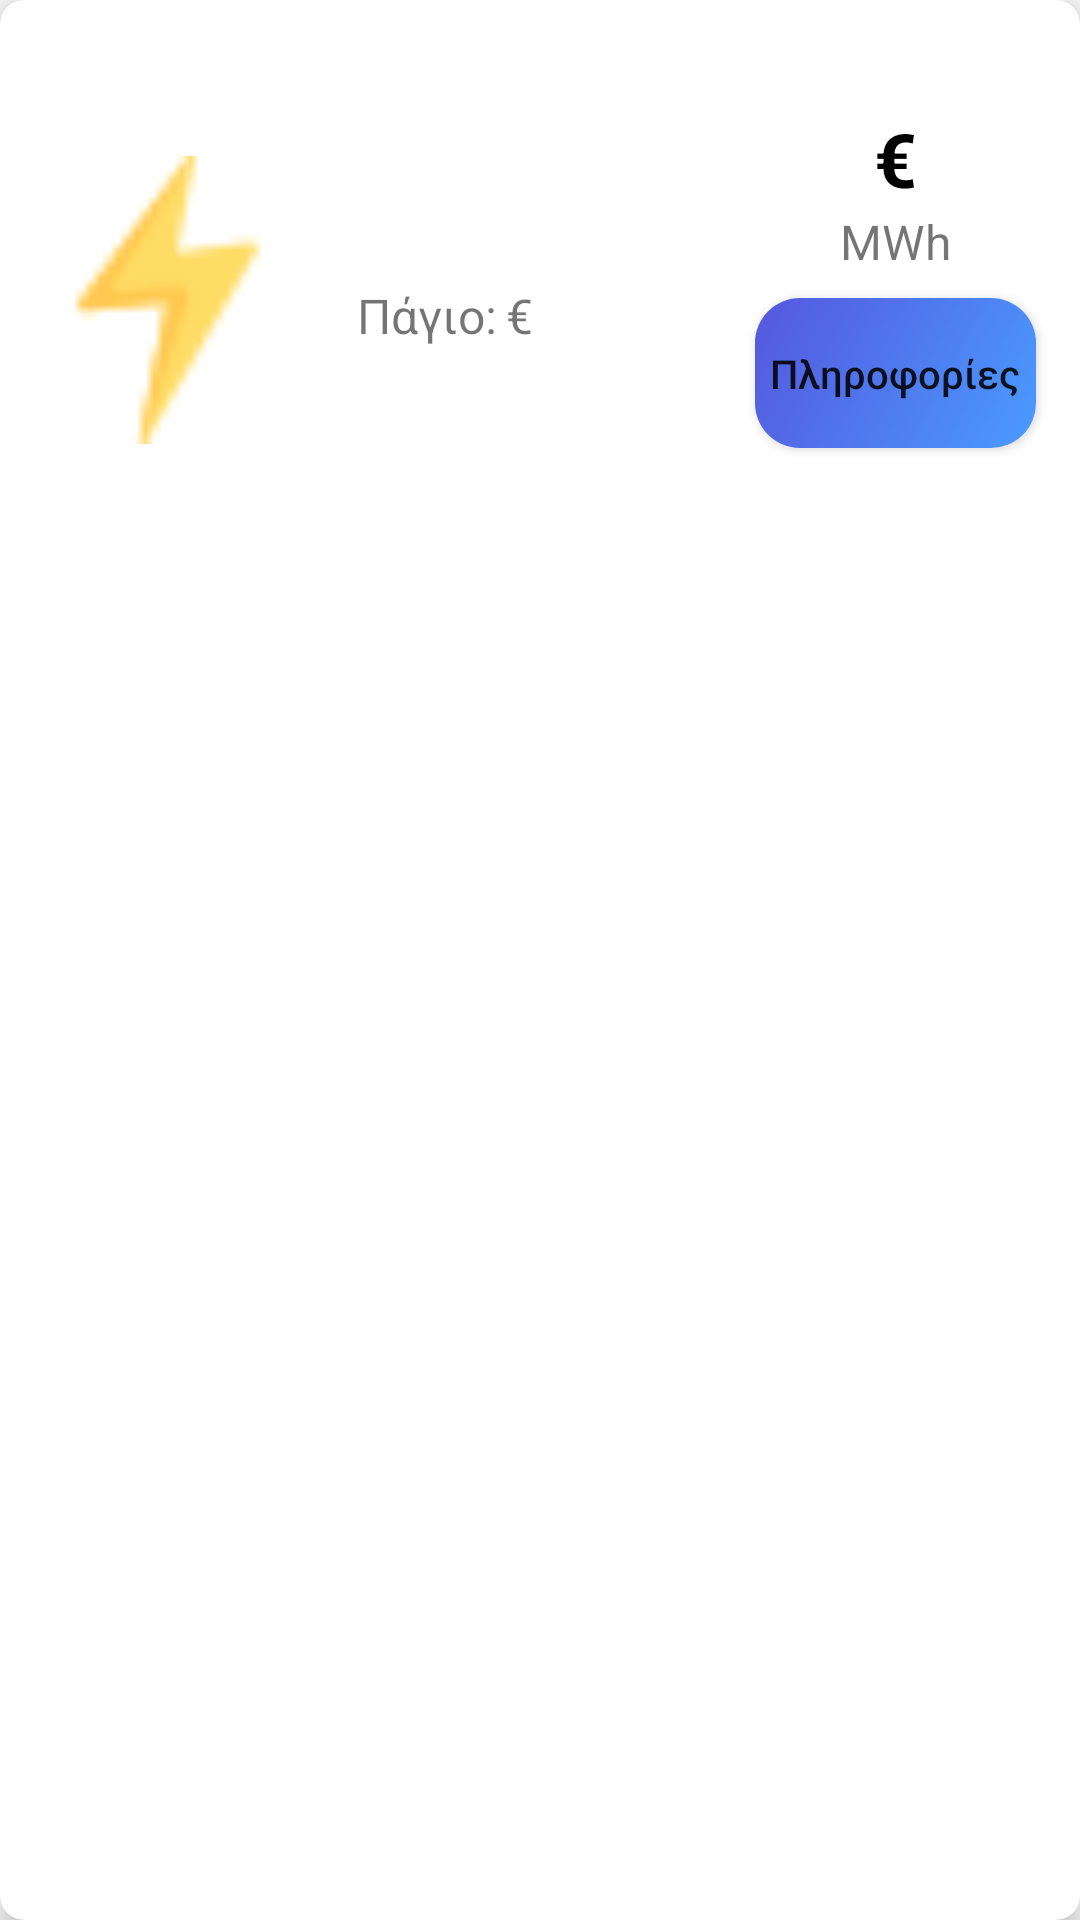

Icons on this 1080 × 1920 Android screen, each with its box as region(x1, y1, x2, y2):
electricity: region(75, 156, 261, 444)
